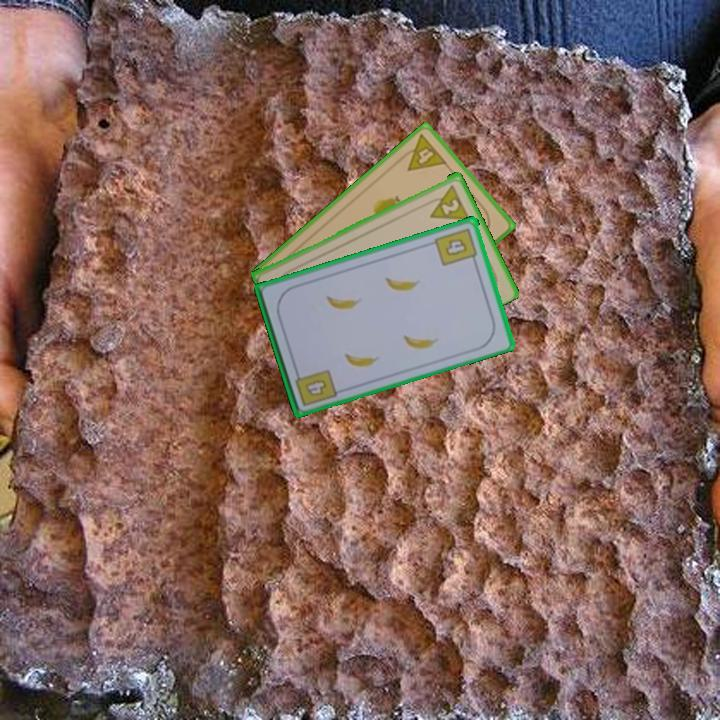2p: (422, 181, 472, 223)
4b: (432, 224, 480, 269), (301, 375, 330, 399)
4p: (395, 131, 450, 174)
